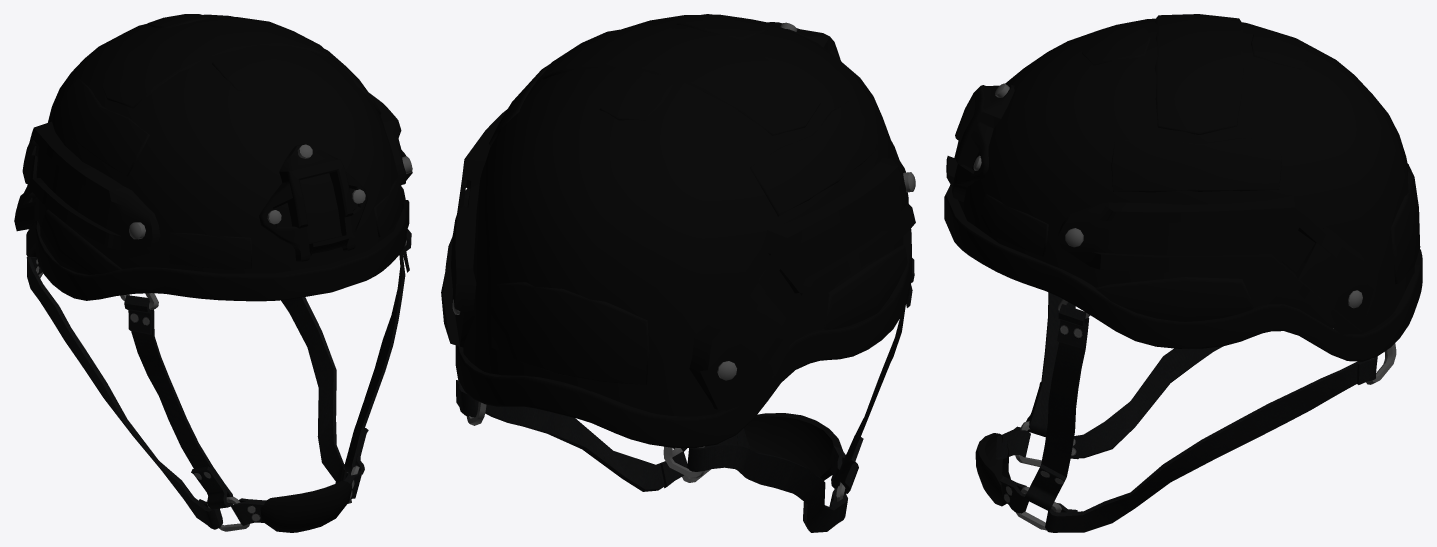
Rendered from helmet-tactical.glb.
The picture shows the model from 3 angles, left to right: view 1: azimuth 30°, elevation 25°; view 2: azimuth 150°, elevation 25°; view 3: azimuth 270°, elevation 25°; orthographic projection. The views are drawn at different scales.
Visible parts, largest first — view 1: HELM_FINAL_v2_UV_DONE; view 2: HELM_FINAL_v2_UV_DONE; view 3: HELM_FINAL_v2_UV_DONE.
Part boxes in pixels (bbox=[...]): HELM_FINAL_v2_UV_DONE: bbox=[14, 14, 412, 532]; HELM_FINAL_v2_UV_DONE: bbox=[441, 14, 915, 532]; HELM_FINAL_v2_UV_DONE: bbox=[944, 14, 1422, 532].
Size of the model in its own units: 0.2234 by 0.2853 by 0.2659.
Materials: 1 (1 with a texture image).
